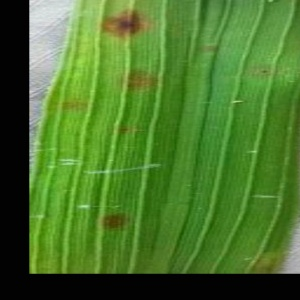Bacterial_Leaf_Blight: (96, 0, 155, 46), (113, 65, 160, 98), (96, 202, 137, 236), (249, 63, 278, 81), (111, 123, 134, 139), (263, 0, 275, 6)
